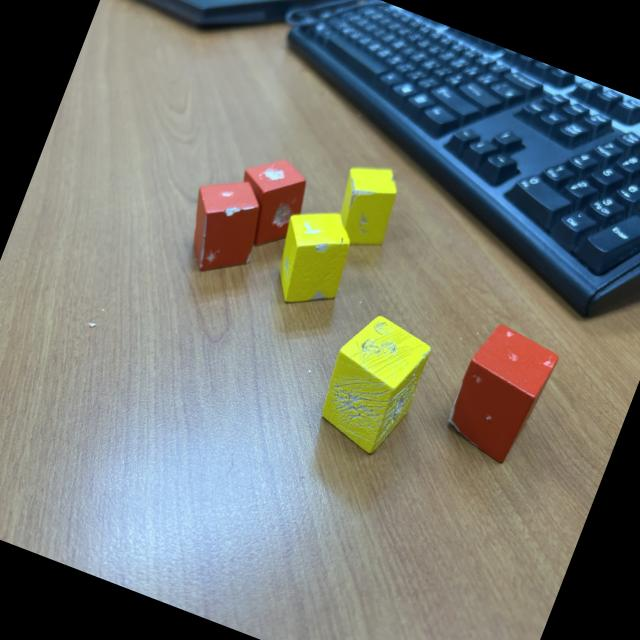broken: (307, 304, 440, 464), (436, 315, 566, 470), (260, 197, 366, 321), (172, 167, 276, 286), (218, 146, 318, 260), (322, 152, 410, 256)
